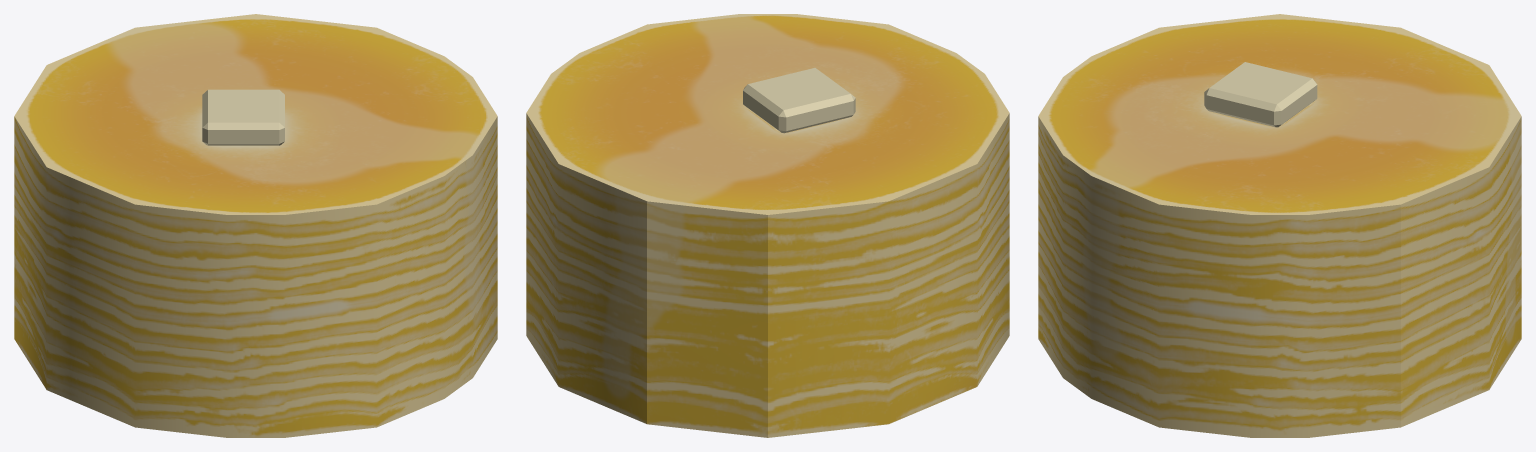
Rendered from oPancake.fbx.
3 renders of one model, left to right at view 1: azimuth 30°, elevation 25°; view 2: azimuth 150°, elevation 25°; view 3: azimuth 270°, elevation 25°, orthographic.
Visible parts, largest first — view 1: butter; view 2: butter; view 3: butter.
Part boxes in pixels (x1,y1,x2,y2): butter: [14, 14, 497, 437]; butter: [526, 14, 1009, 437]; butter: [1038, 14, 1521, 437].
Size of the model in its own units: 35.34 by 20.1 by 35.91.
